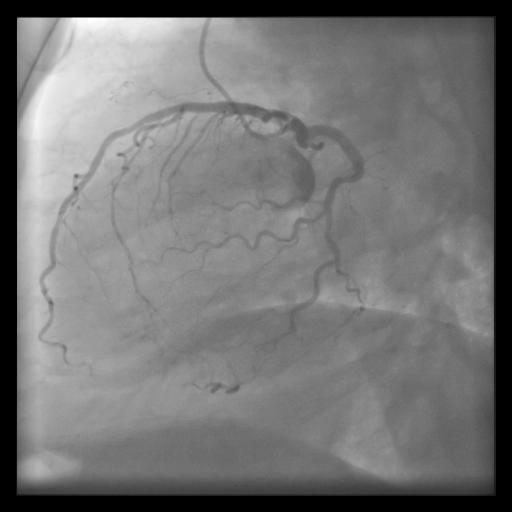Stenosis: (264, 106, 273, 120)
